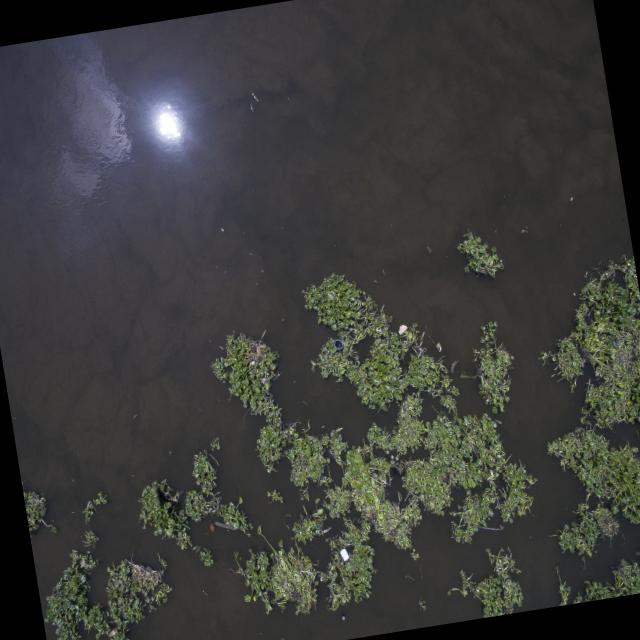Plastic: (339, 547, 352, 564), (332, 336, 344, 352), (396, 322, 409, 334)
